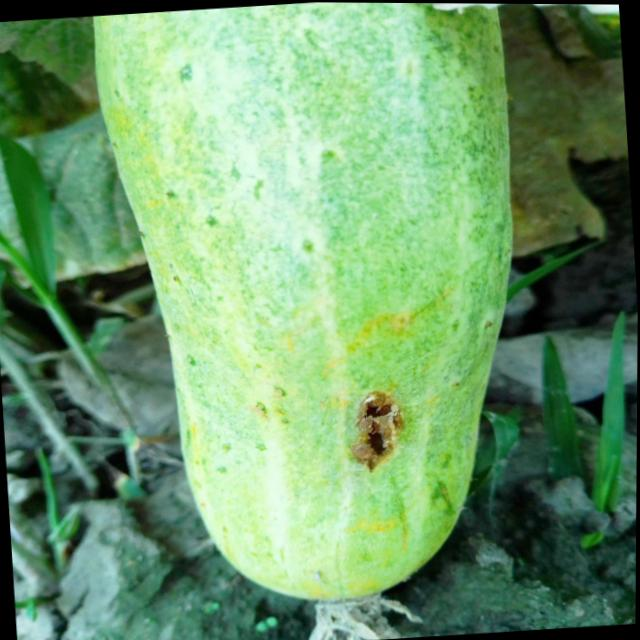Belly-Rot: (340, 361, 415, 482)
